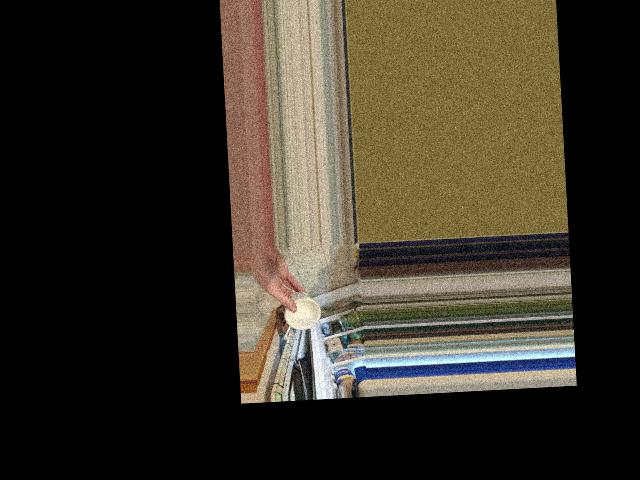cotage: (281, 290, 315, 332)
